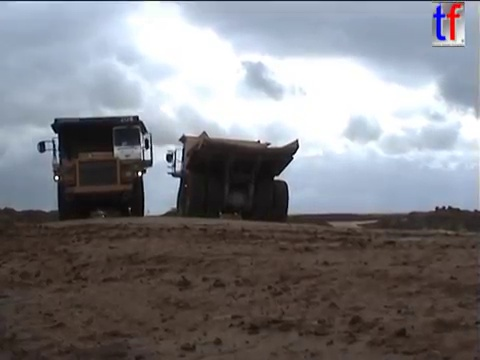excavator: (71, 156, 123, 222)
truck: (163, 129, 303, 224), (35, 113, 156, 222)
